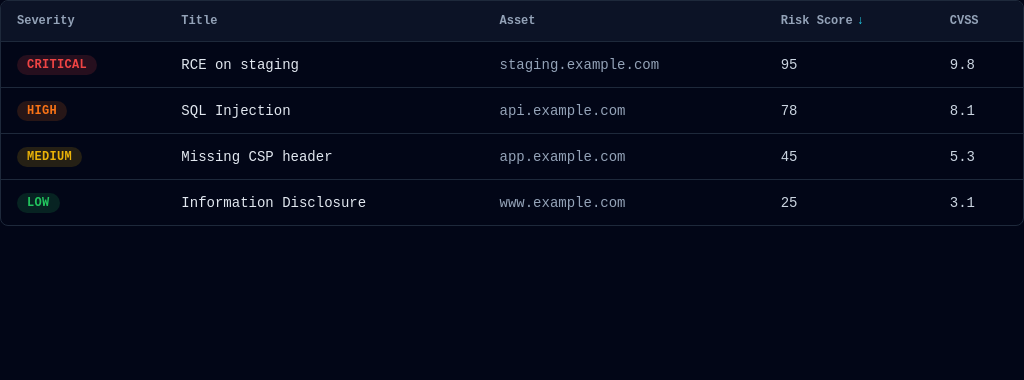
FindingsTable › expands a row to show the description when clicked
Expected: the text "Remote code execution via deserialization flaw" is not shown
// Click the RCE finding row
Click the text "RCE on staging": [512, 64] box [1,42,1023,88]
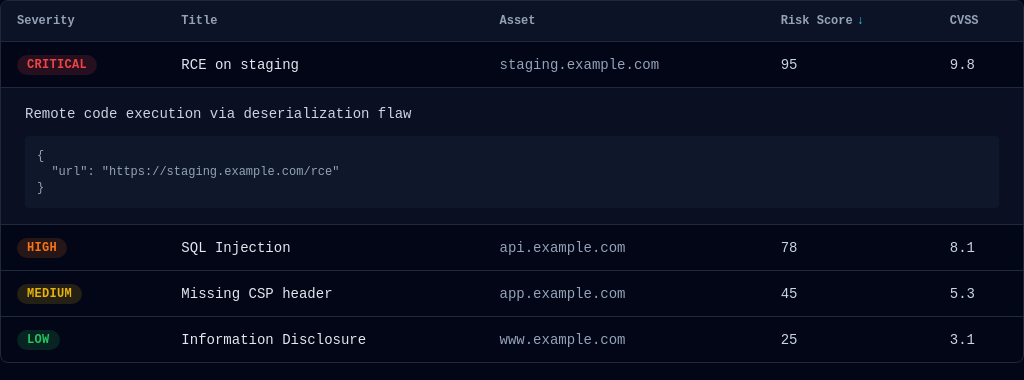
Now the text "Remote code execution via deserialization flaw" is shown, box [25,106,412,122]
